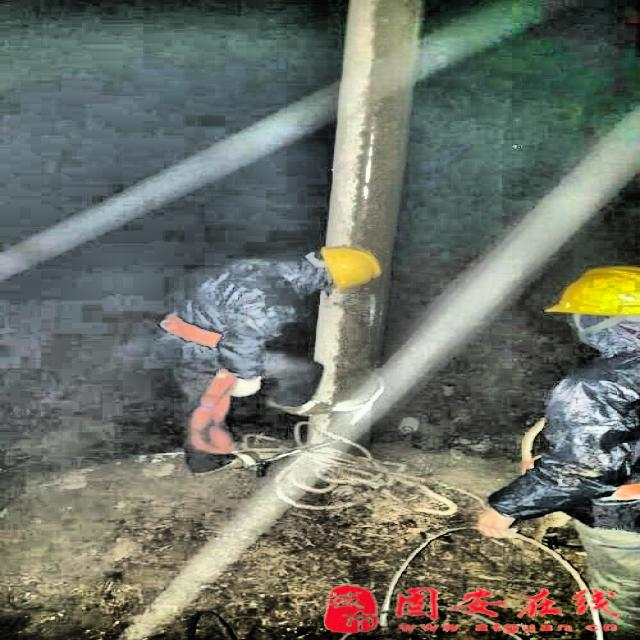helmet: (542, 264, 638, 352), (286, 241, 382, 300)
